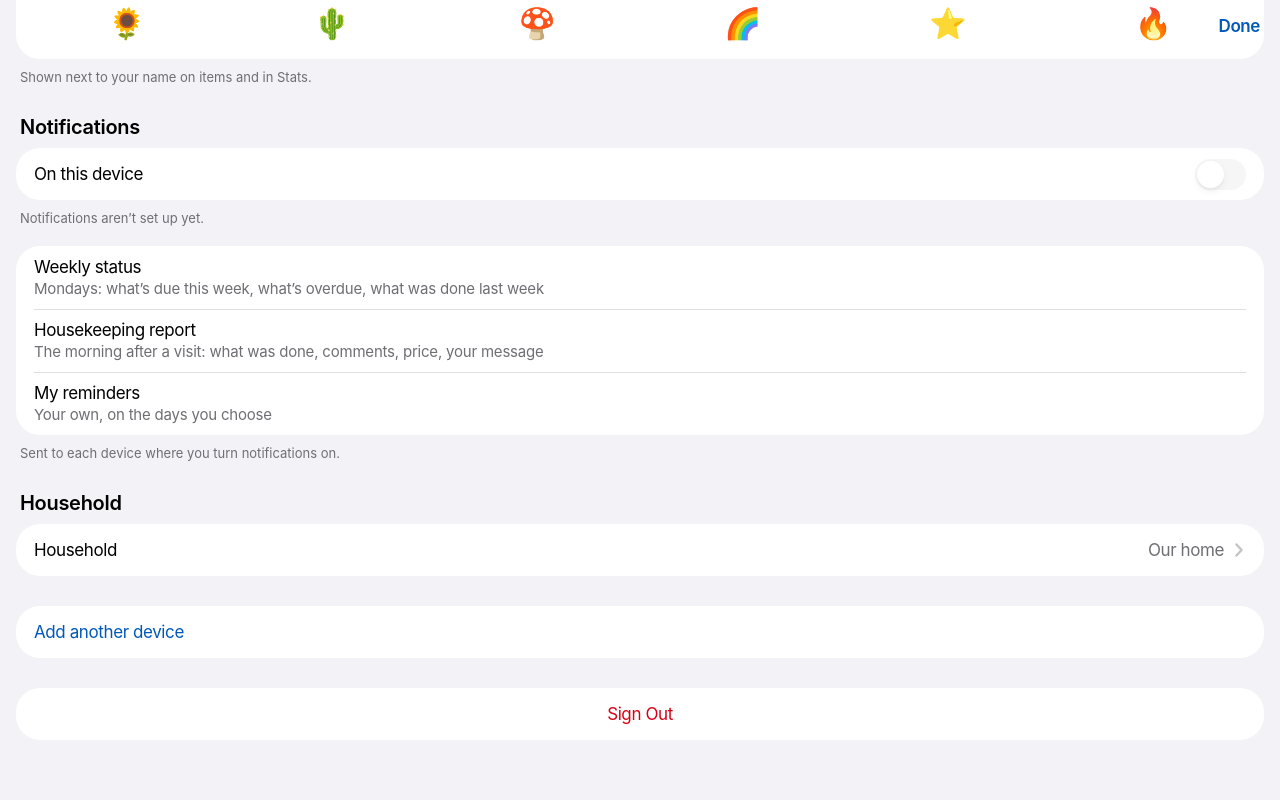
Test: People in server mode › someone who has joined: their devices, each with Remove, and a code for a new phone once none is signed in
Later steps or results of the test are not shown.
(page scrolled)
Click the button "Household Our home": (75, 550) x1=16 y1=524 x2=1264 y2=576
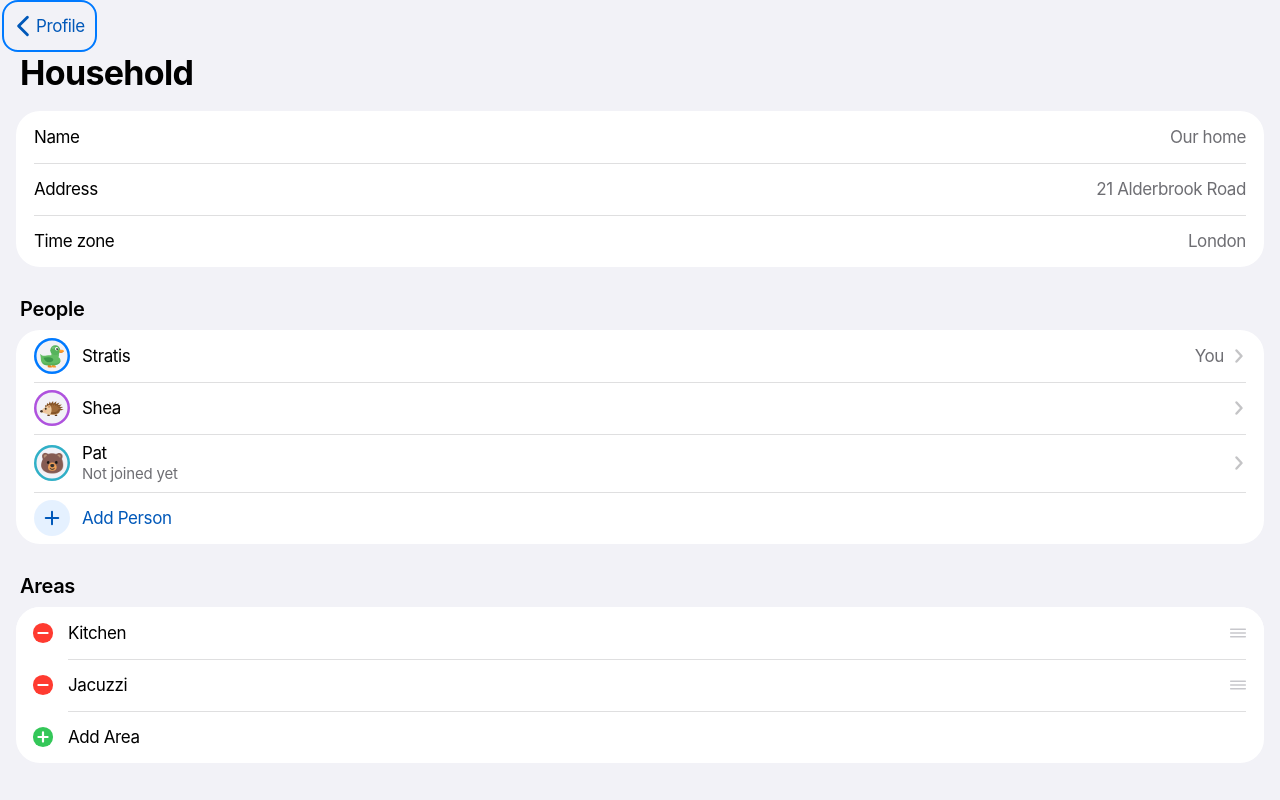
expect the heading "Household" is shown: met, box x1=20 y1=52 x2=193 y2=93
Click the button "Shea": (52, 408) x1=16 y1=382 x2=1264 y2=434
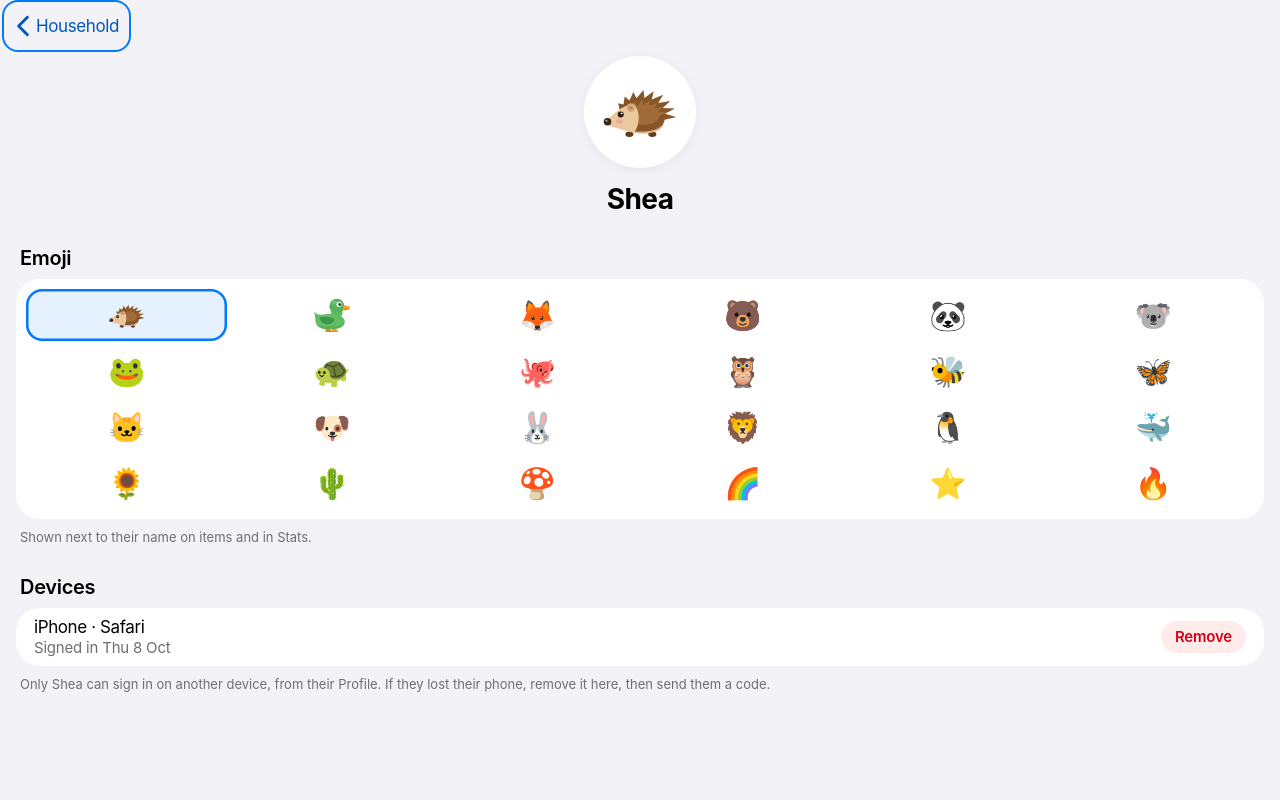
expect the text "Signed in Thu 8 Oct" is shown: met, box x1=33 y1=637 x2=170 y2=657
expect the text "iPhone · Safari" is shown once: met, box x1=34 y1=617 x2=144 y2=637
expect the text "Only Shea can sign in on another device, from their Profile. If they lost their phone, remove it here, then send them a " is shown: met, box x1=20 y1=676 x2=770 y2=692
